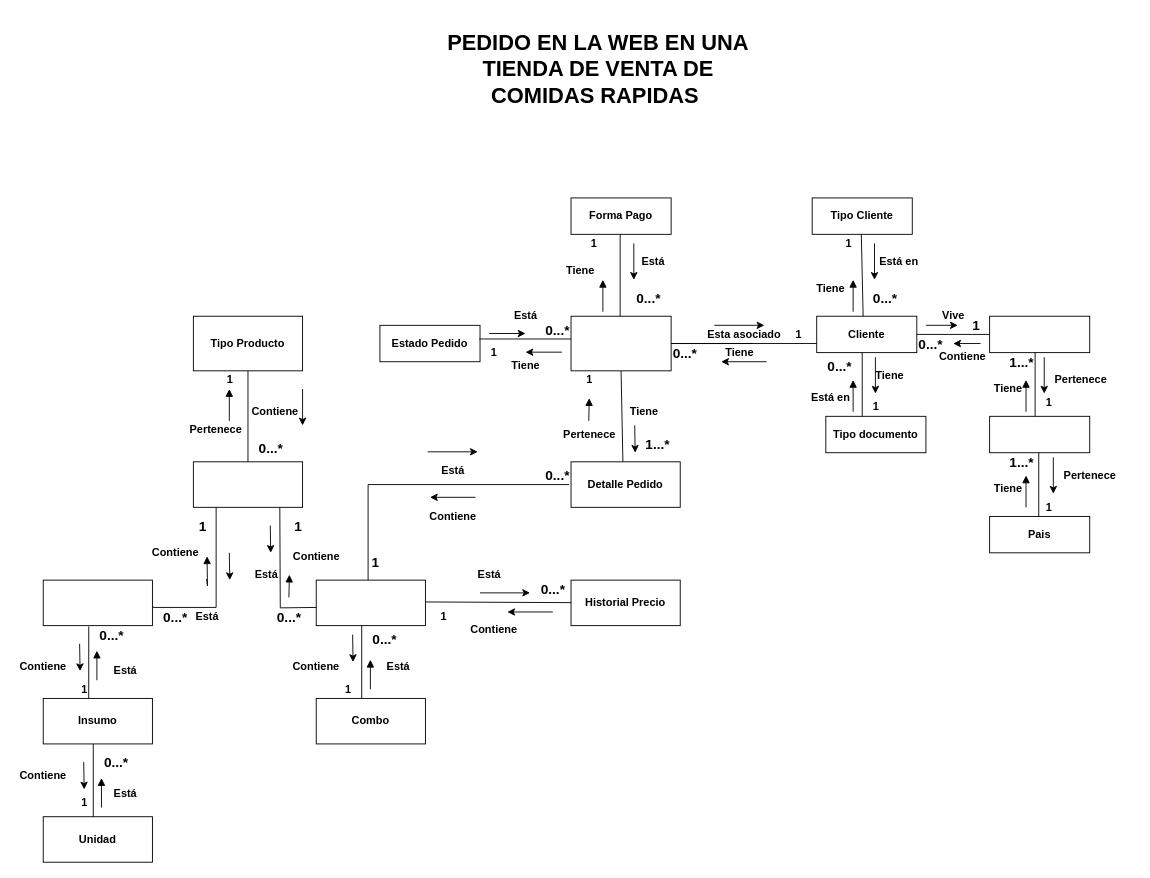
Some shapes in this 1150 by 878 pixel diagram are drawn without their labels. The shapes that lost their labels are listed below. From the top down, each one's box as (x1, y1, x2, y2) in pixels, then its label:
(570, 315, 671, 371): Pedido
(989, 315, 1090, 353): Ciudad
(989, 415, 1090, 453): Departamento
(192, 461, 303, 507): Producto
(42, 579, 152, 626): Producto Insumo
(315, 579, 425, 626): Producto Combo
